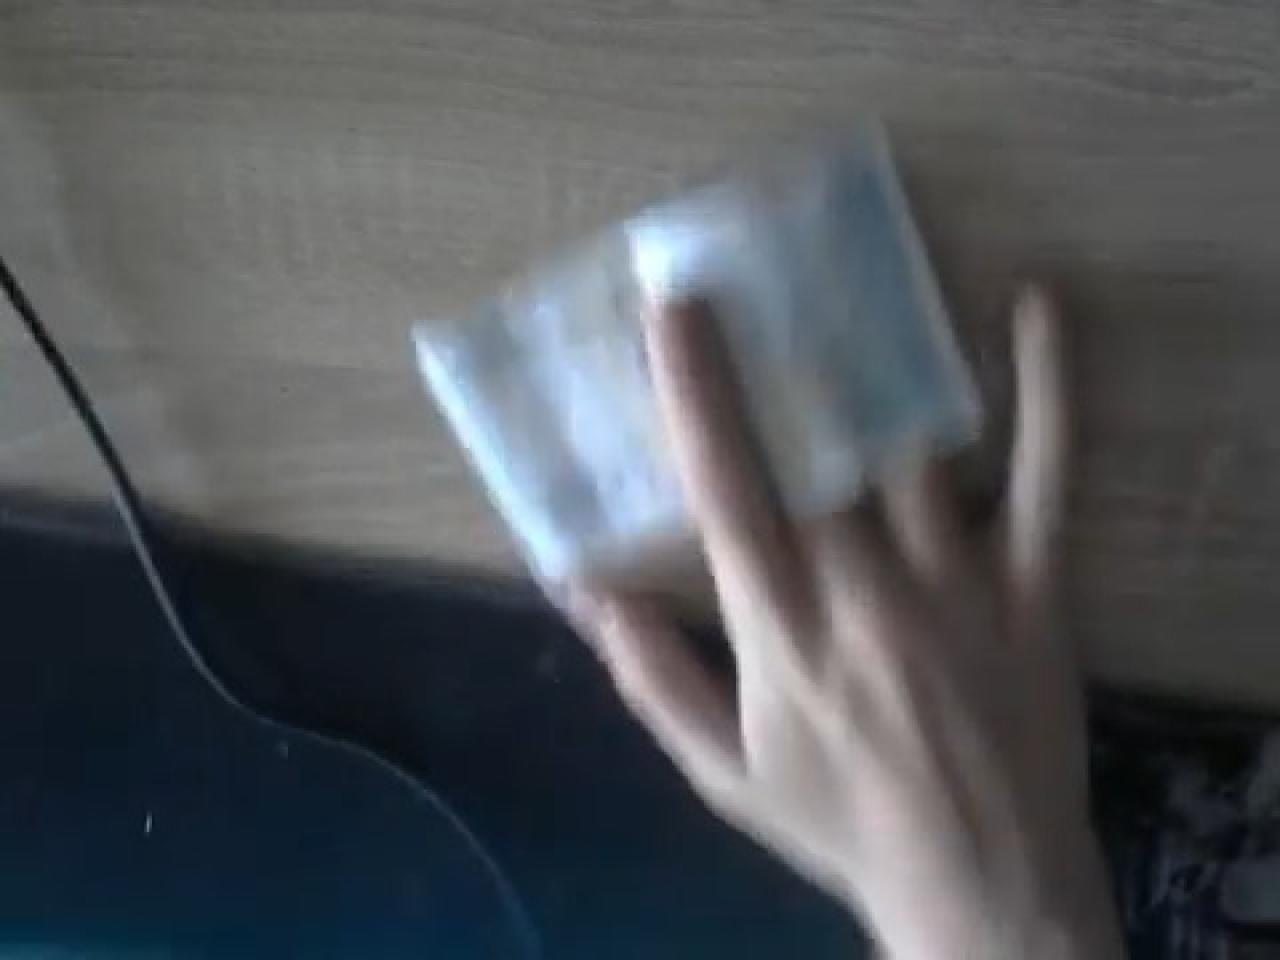20leva: (405, 115, 1128, 960)
